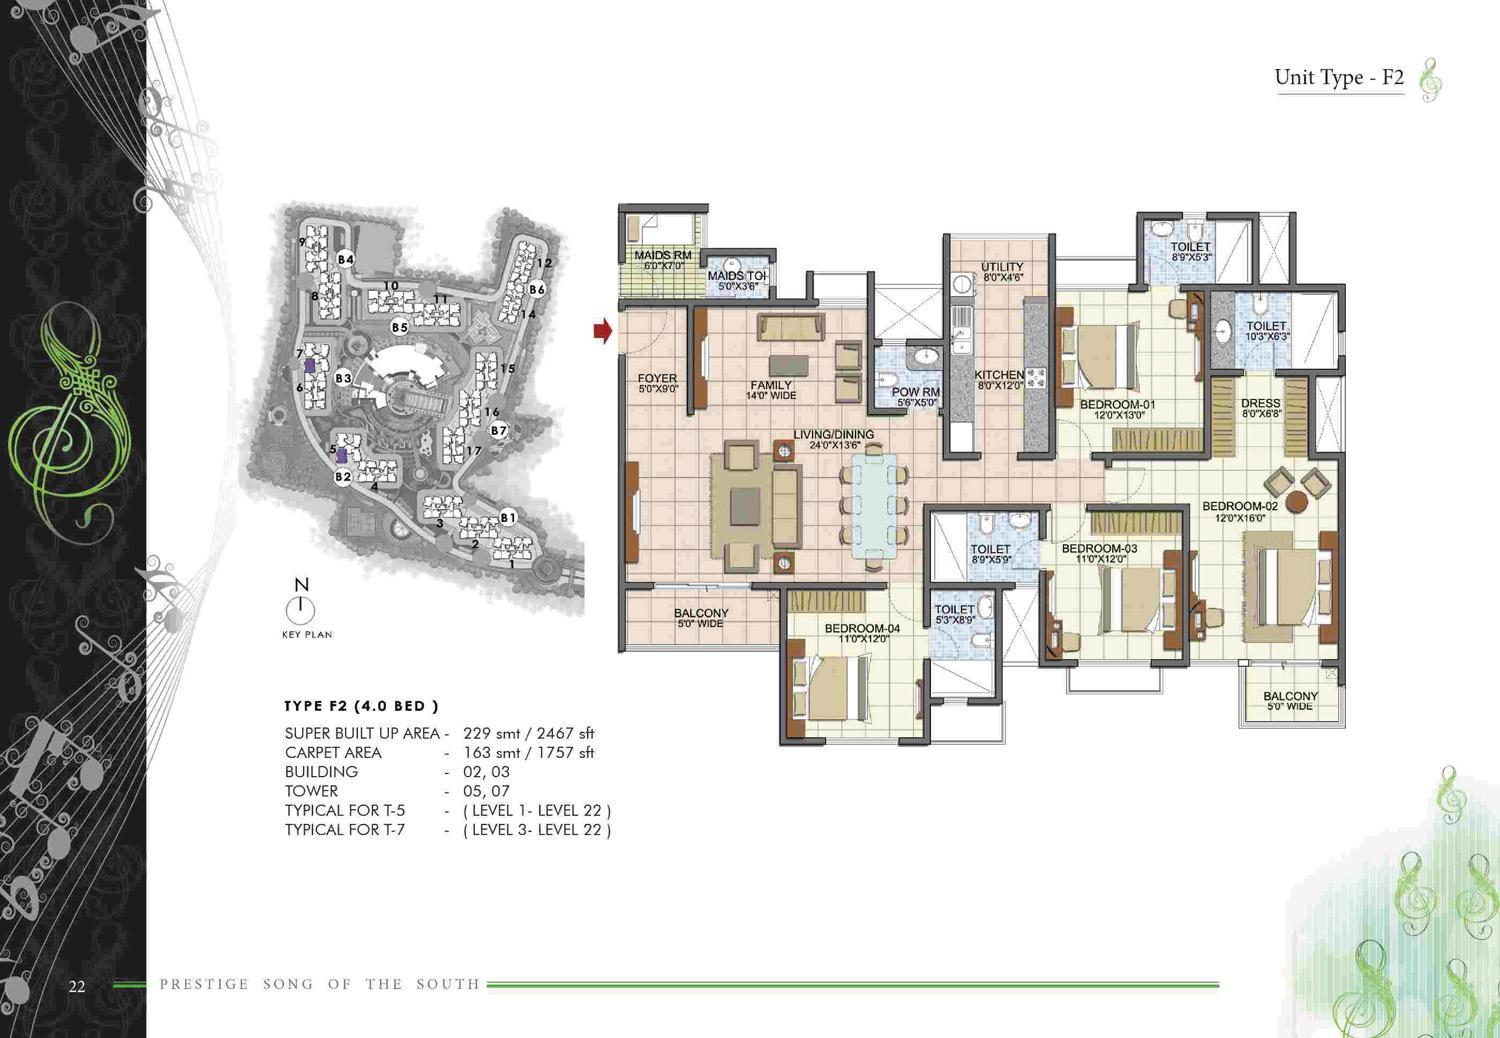Balcony: (1275, 721, 1426, 1035), (627, 589, 778, 647), (1246, 663, 1338, 721)
Bed: (1254, 547, 1338, 626), (1097, 566, 1181, 632), (1055, 325, 1139, 390), (791, 654, 866, 725), (627, 215, 694, 248)
Bedroom: (1183, 459, 1339, 664), (1054, 289, 1203, 455), (784, 586, 928, 743), (1042, 509, 1185, 664), (621, 207, 704, 299), (1110, 458, 1183, 505)
Dining table: (837, 443, 907, 573)
Foyer: (622, 310, 690, 455)
Kitchen: (948, 302, 1050, 456)
Living Room: (698, 305, 865, 580)
Sofa: (769, 466, 804, 547), (757, 312, 825, 341), (725, 441, 758, 474), (724, 542, 760, 571), (832, 375, 861, 401), (833, 343, 858, 367)
Wardrobe: (1112, 427, 1201, 452), (1091, 513, 1180, 537), (1281, 375, 1307, 453), (785, 587, 866, 612), (1213, 377, 1236, 453)
commode: (969, 632, 993, 651), (875, 371, 898, 389), (1185, 223, 1206, 242), (1253, 293, 1266, 318), (979, 514, 995, 534)
door: (618, 310, 668, 354), (1057, 416, 1097, 456), (653, 579, 752, 595), (1104, 468, 1148, 504), (886, 588, 922, 629), (625, 260, 663, 297), (1050, 508, 1086, 545), (1149, 253, 1184, 291), (1244, 656, 1323, 672), (908, 376, 940, 411), (1244, 337, 1274, 373), (703, 268, 734, 300), (1012, 538, 1042, 571)
dress: (1212, 375, 1312, 453)
kitchen-slab: (1021, 302, 1047, 448), (949, 303, 975, 455)
sink: (951, 307, 973, 357), (972, 594, 993, 622), (911, 349, 939, 368), (1216, 319, 1233, 348), (724, 258, 745, 277), (1150, 221, 1174, 238), (1009, 512, 1033, 528)
stove: (1025, 366, 1047, 391)
toilet: (930, 510, 1042, 583), (930, 590, 995, 696), (874, 346, 940, 408), (704, 252, 772, 301)
tv: (623, 463, 645, 542), (1187, 555, 1206, 600), (910, 675, 928, 721), (700, 333, 715, 387), (1188, 334, 1205, 377), (1046, 575, 1060, 623)
utility: (1216, 291, 1339, 368), (1143, 218, 1252, 280), (949, 237, 1046, 299)
washing-machine: (951, 272, 976, 295)
